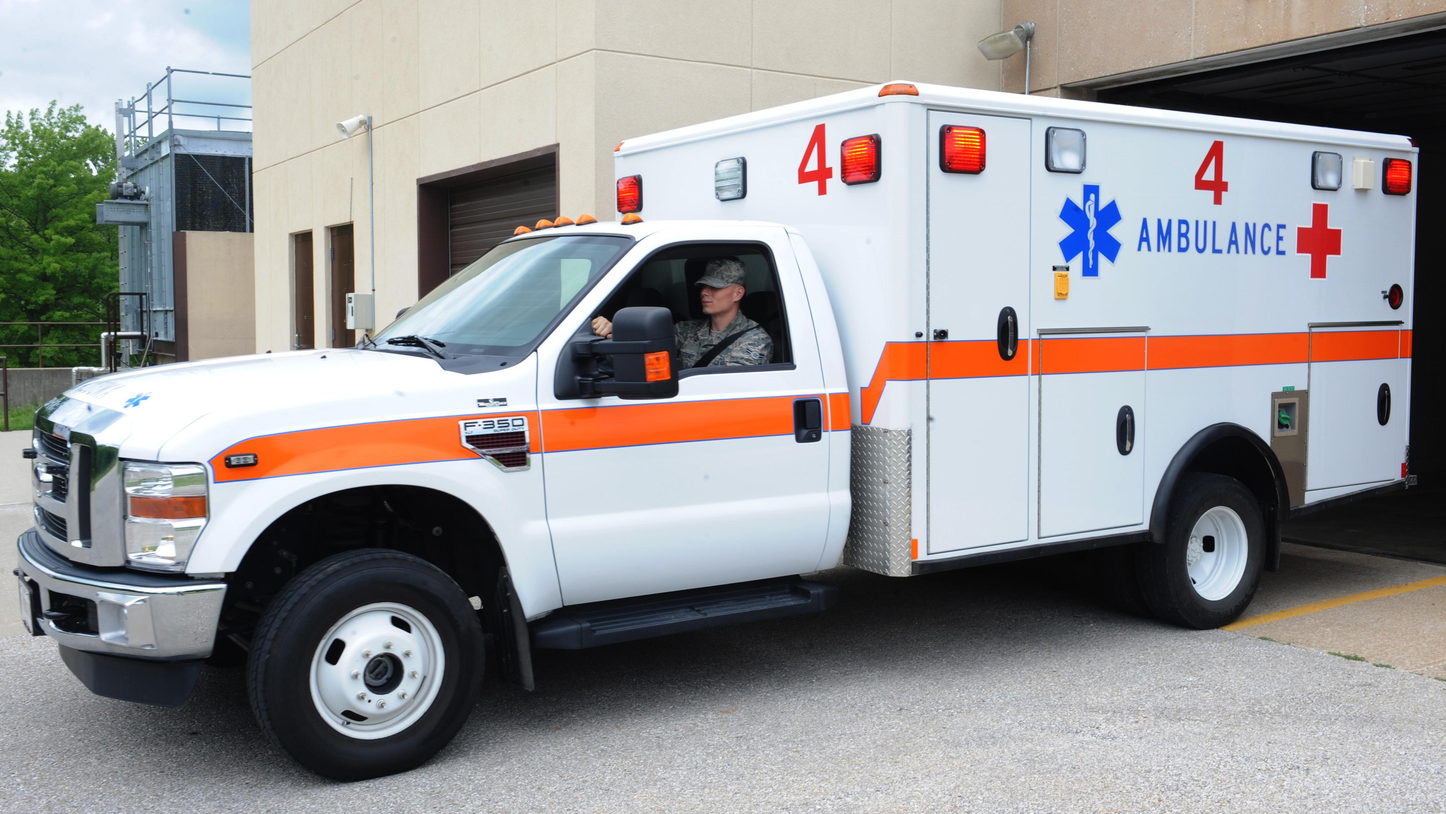Ambulance: (1133, 212, 1290, 262), (1055, 181, 1126, 280)
